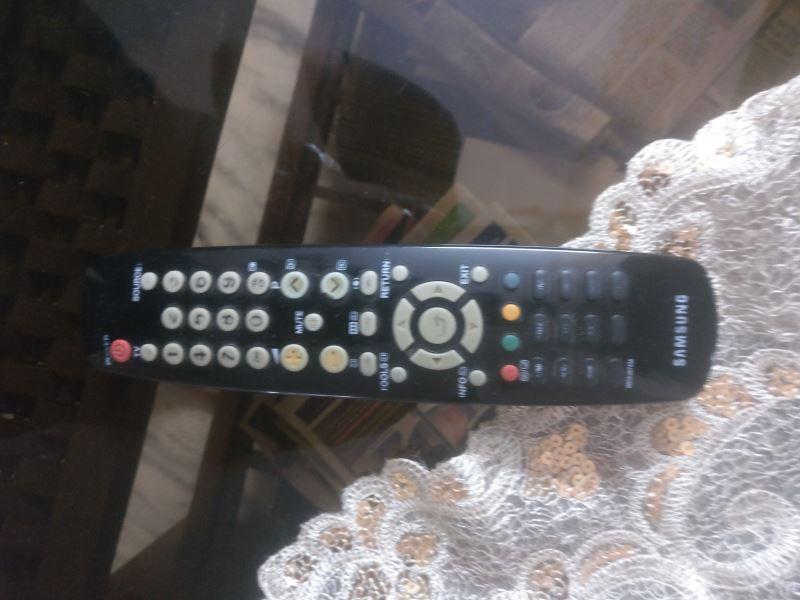tv remote: (81, 244, 722, 408)
